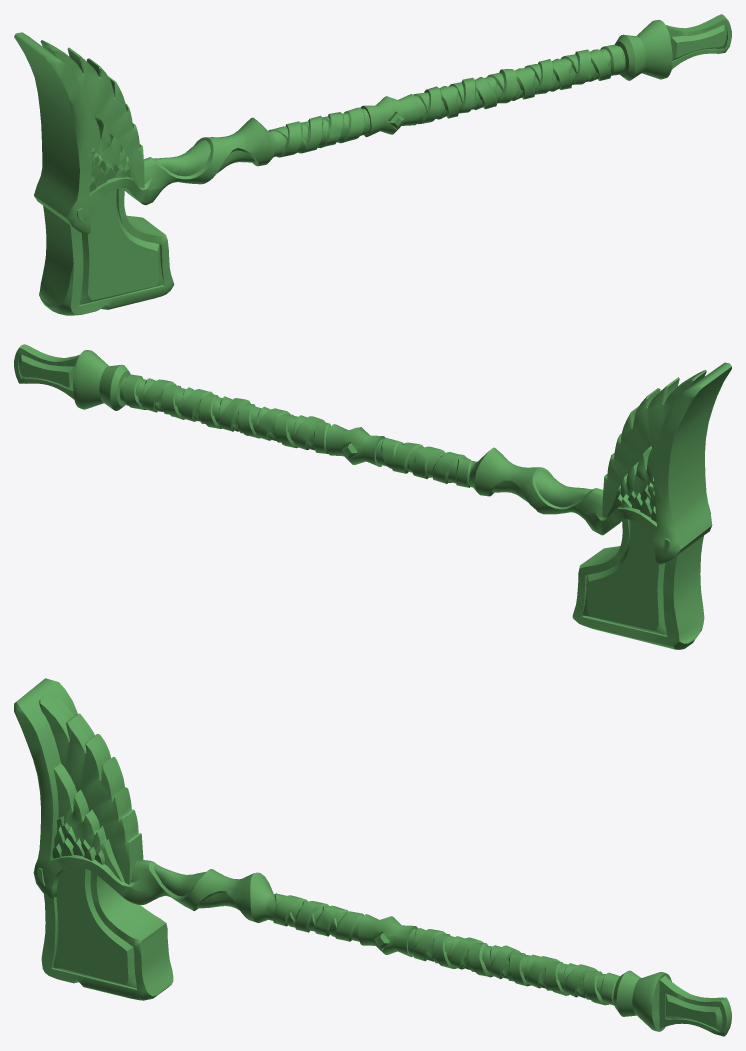
Rendered from SM_Rune_Two_Handed_Hammer_1.fbx.
The picture shows the model from 3 angles, top to bottom: view 1: azimuth 30°, elevation 25°; view 2: azimuth 150°, elevation 25°; view 3: azimuth 330°, elevation 25°; orthographic projection.
Visible parts, largest first — view 1: SM_Rune_Two_Handed_Hammer_1; view 2: SM_Rune_Two_Handed_Hammer_1; view 3: SM_Rune_Two_Handed_Hammer_1.
Boxes of the visible parts, box(x1,y1,x2,y2) form: SM_Rune_Two_Handed_Hammer_1: box(14, 14, 731, 315); SM_Rune_Two_Handed_Hammer_1: box(14, 344, 731, 649); SM_Rune_Two_Handed_Hammer_1: box(14, 678, 731, 1036).
Size of the model in its own units: 1.26 by 0.4714 by 0.1233.
